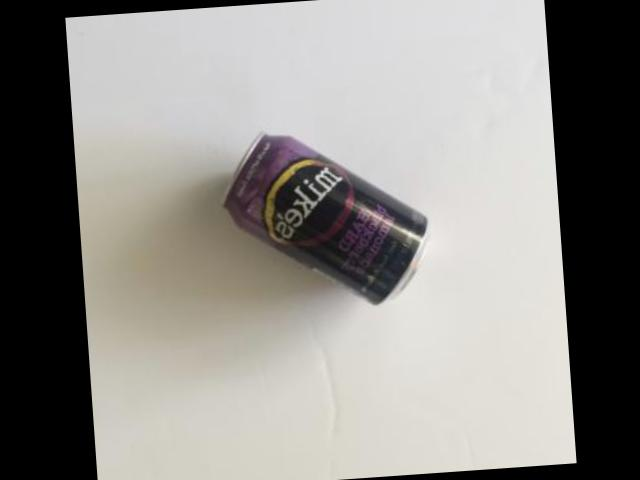metal: (221, 133, 422, 301)
